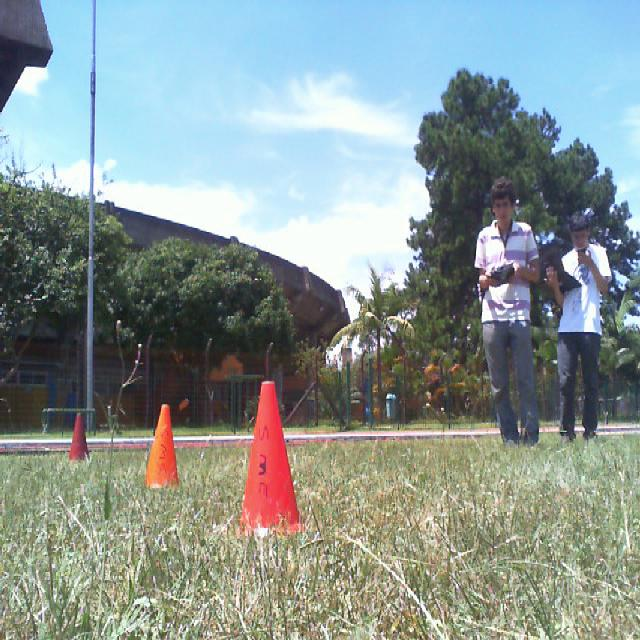cone: (240, 380, 306, 539), (146, 404, 181, 489), (69, 412, 90, 463)
